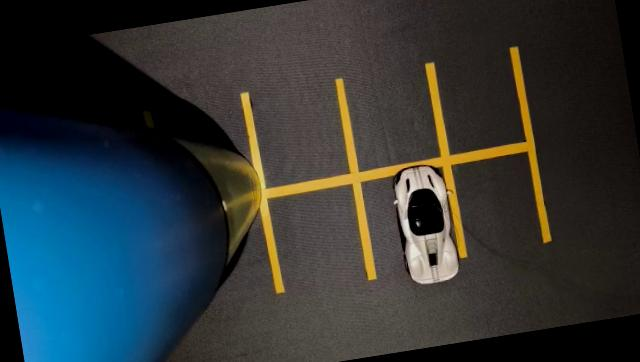toy_car: (378, 154, 468, 295)
